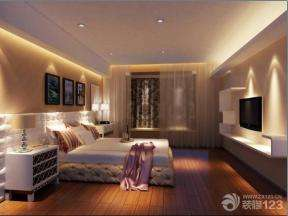床: (55, 135, 179, 187)
枕头: (43, 118, 101, 151)
灯: (93, 100, 111, 125), (159, 49, 167, 58), (76, 23, 86, 30), (155, 18, 166, 24)
